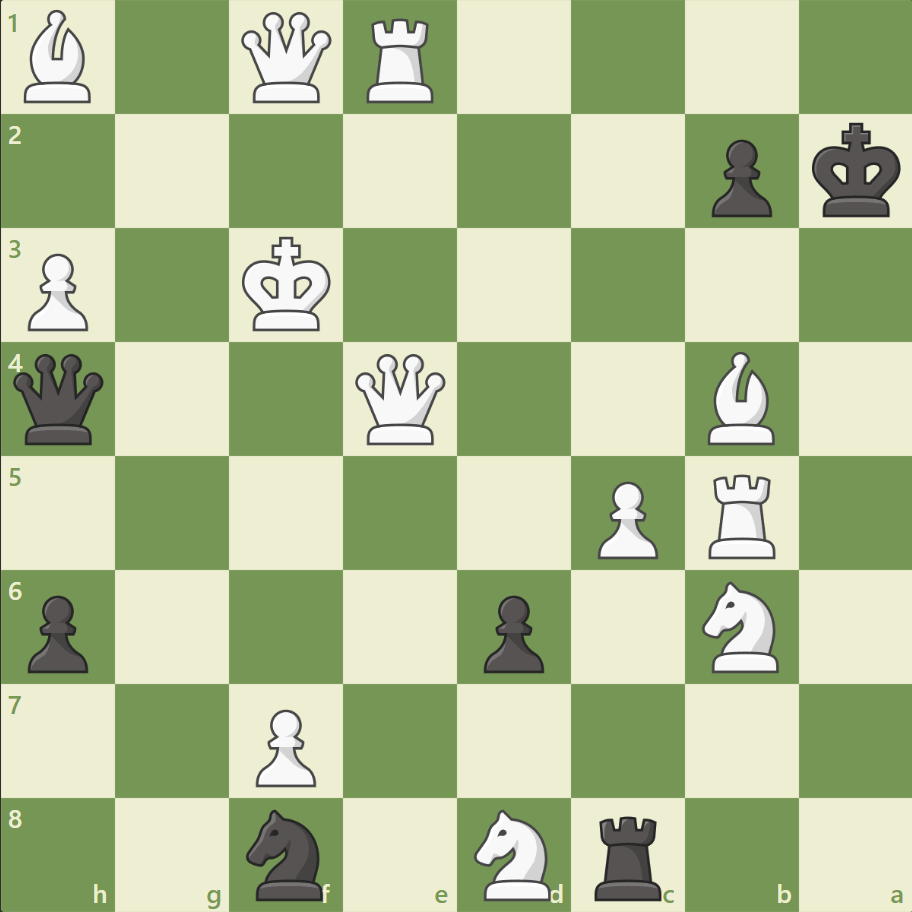B: (17, 6, 101, 109), (698, 347, 782, 449)
K: (238, 231, 338, 339)
N: (465, 802, 562, 904), (692, 575, 789, 677)
P: (247, 700, 322, 791), (20, 246, 95, 337), (588, 473, 662, 564)
Q: (351, 349, 450, 449), (237, 9, 336, 108)
R: (700, 466, 783, 563), (360, 12, 442, 109)
k: (806, 117, 906, 225)
n: (238, 802, 335, 904)
p: (474, 586, 549, 677), (20, 586, 95, 677), (701, 132, 776, 223)
q: (10, 349, 109, 449)
r: (587, 806, 670, 904)
